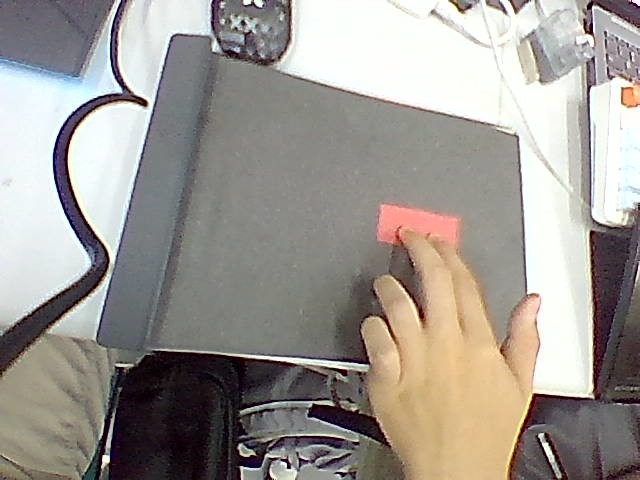card: (378, 204, 460, 245)
